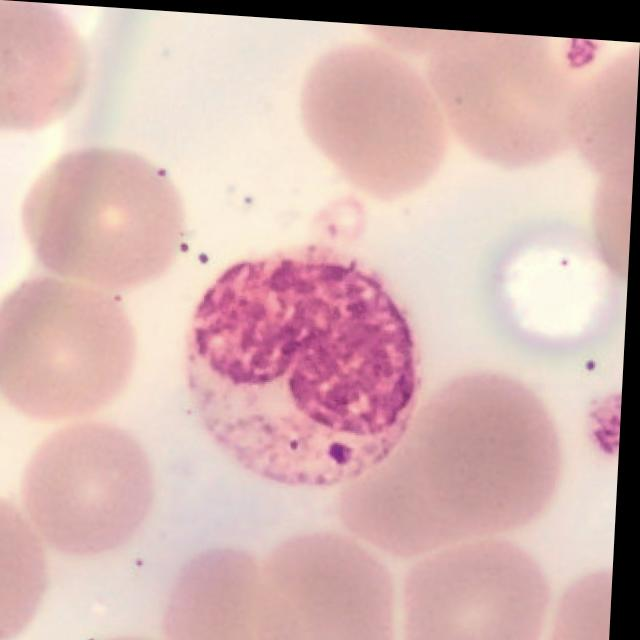Metamielocito: (189, 241, 425, 485)
